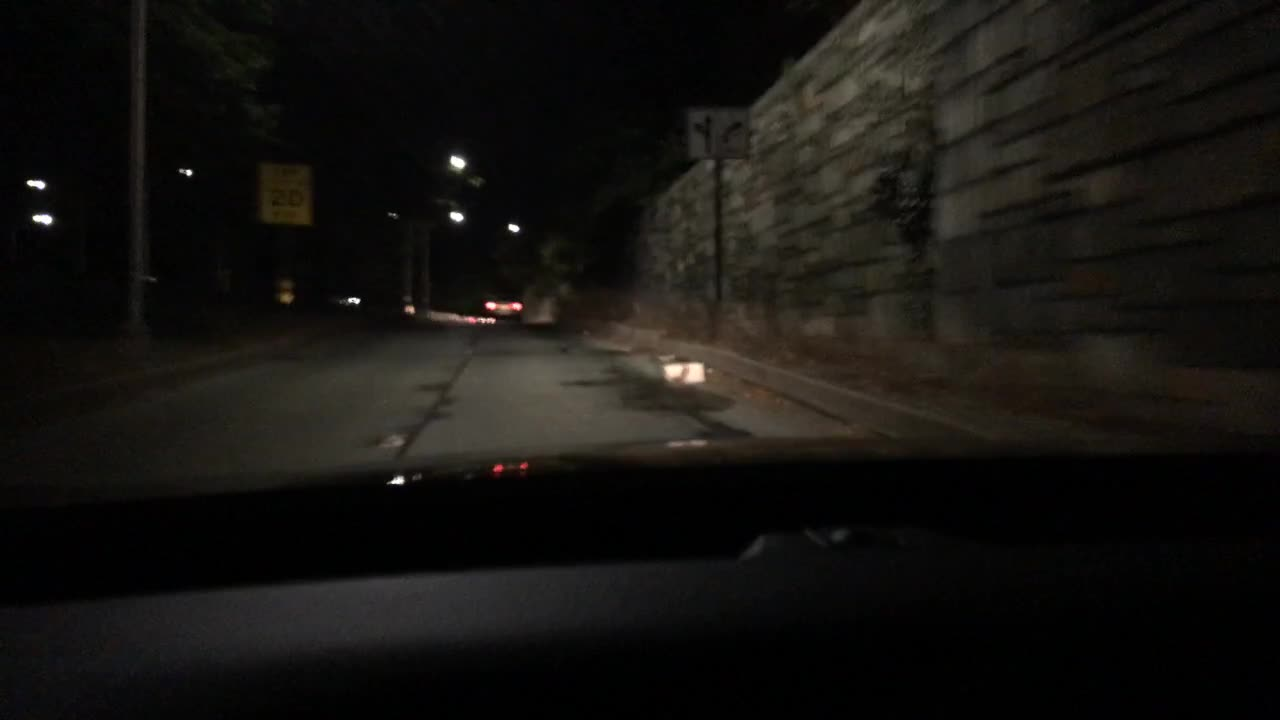car: (520, 282, 558, 330), (482, 291, 521, 319), (328, 289, 363, 308)
traffic sign: (256, 158, 314, 228), (685, 101, 752, 160), (275, 277, 296, 304)
